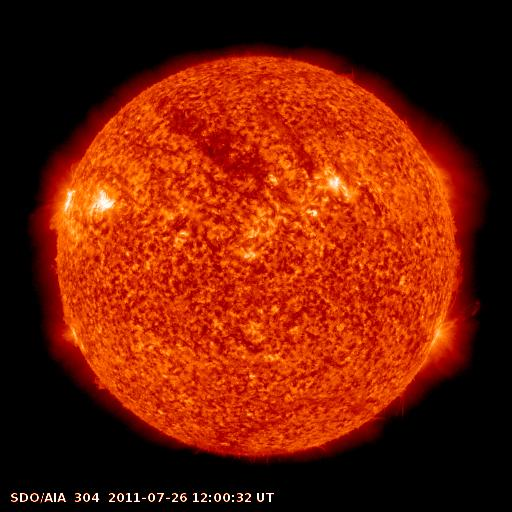prominence: (443, 242, 472, 296)
